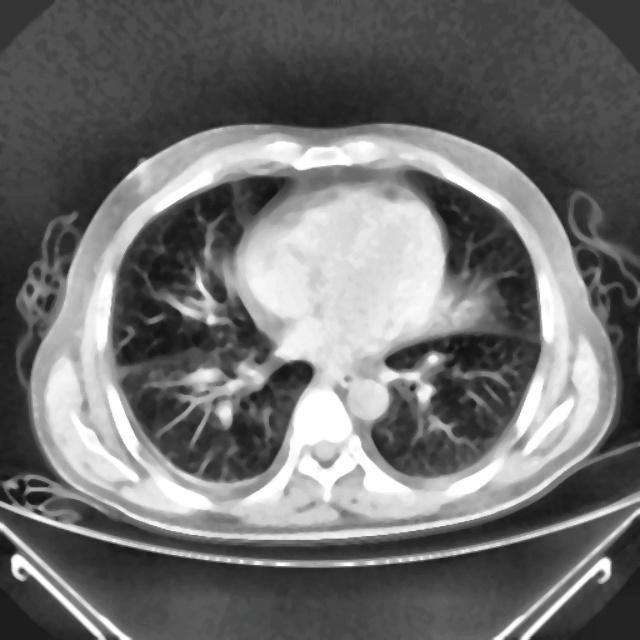covid: (20, 121, 621, 543)
